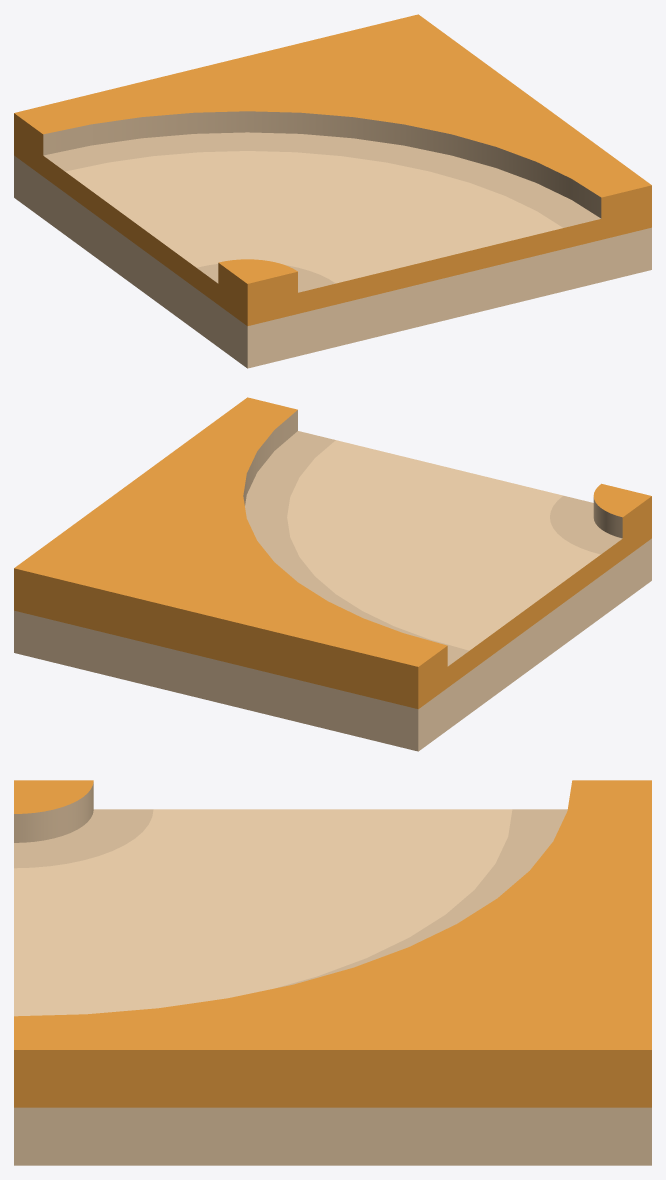
The model's file is autumn_corner_Round.fbx.
3 renders of one model, top to bottom at view 1: azimuth 30°, elevation 25°; view 2: azimuth 150°, elevation 25°; view 3: azimuth 270°, elevation 25°, orthographic. The views are drawn at different scales.
Visible parts, largest first — view 1: tile_cornerRound; view 2: tile_cornerRound; view 3: tile_cornerRound.
Boxes of the visible parts, bbox=[...] form: tile_cornerRound: bbox=[14, 14, 651, 368]; tile_cornerRound: bbox=[14, 397, 651, 751]; tile_cornerRound: bbox=[14, 780, 651, 1165].
Bounding box in the file's own units: 100 × 20 × 100.
